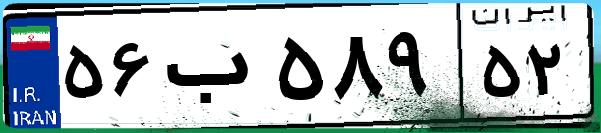2: (525, 38, 570, 115)
5: (270, 28, 330, 110), (57, 26, 110, 100), (475, 38, 525, 113)
6: (110, 28, 158, 98)
8: (330, 28, 385, 110)
9: (385, 28, 445, 110)
ب: (158, 20, 270, 120)
